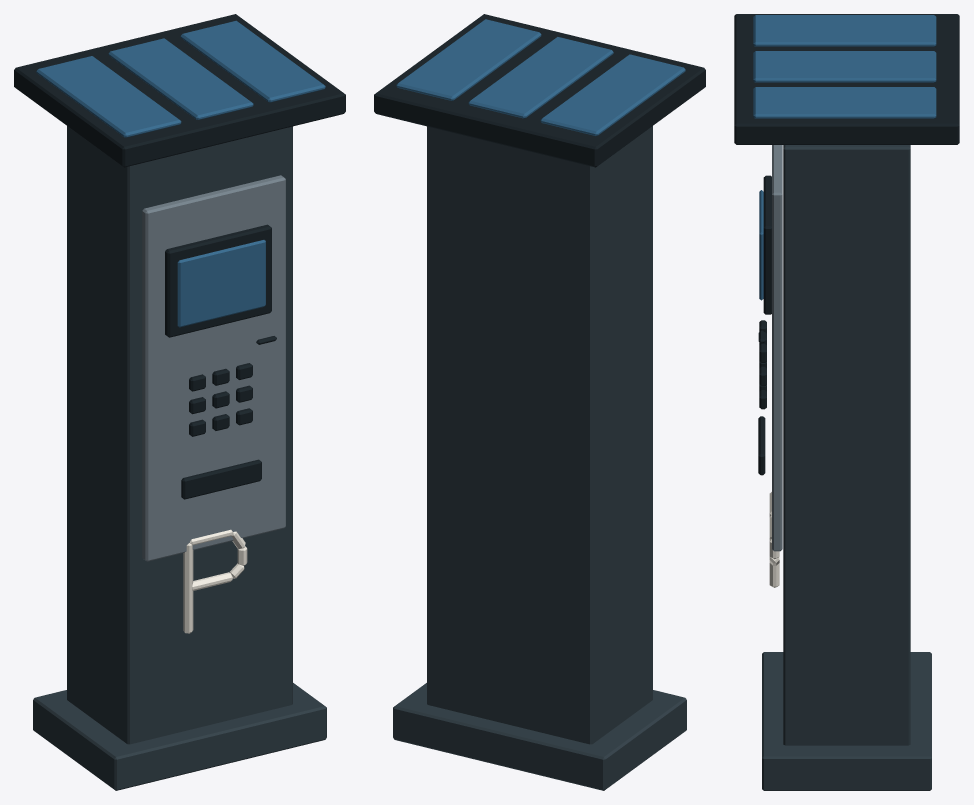
File: b02_parking_pay_station.glb
3 views of the same model, side by side, from view 1: azimuth 30°, elevation 25°; view 2: azimuth 150°, elevation 25°; view 3: azimuth 270°, elevation 25° (orthographic). The views are drawn at different scales.
Parts seen in each view (by area): view 1: b02_parking_pay_station; view 2: b02_parking_pay_station; view 3: b02_parking_pay_station.
Boxes of the visible parts, <box> form: b02_parking_pay_station: <box>14,14,345,790</box>; b02_parking_pay_station: <box>374,14,705,790</box>; b02_parking_pay_station: <box>734,14,959,790</box>.
Size of the model in its own units: 0.62 by 1.75 by 0.53.
